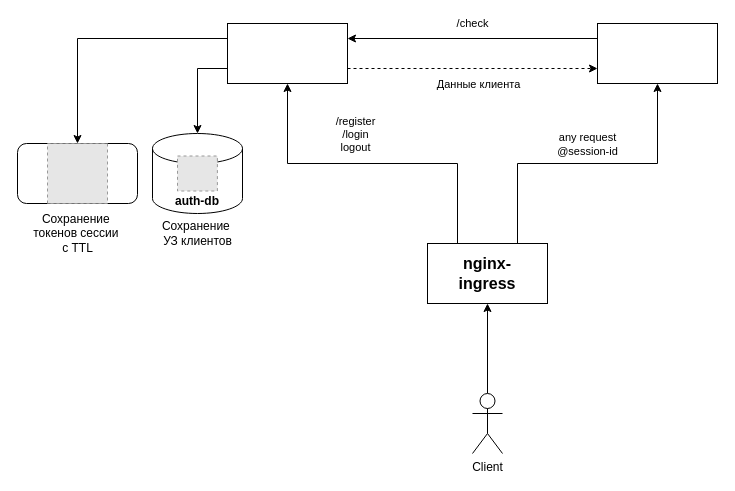
This 735x491 diagram has some shape labels left out. Grey dashed boxes stand in for pictures. Each missing label, with the box of its shape:
any service: (596, 22, 718, 84)
auth: (226, 22, 348, 84)
